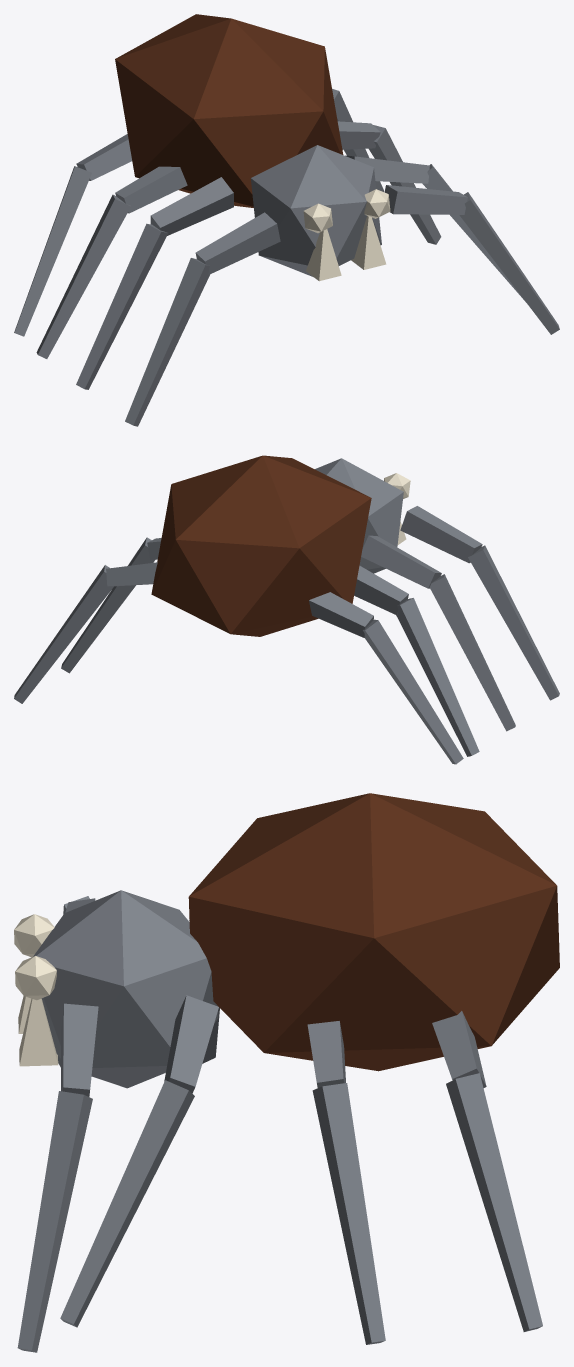
Rendered from npcpose_spider_walk_02.glb.
3 renders of one model, top to bottom at view 1: azimuth 30°, elevation 25°; view 2: azimuth 150°, elevation 25°; view 3: azimuth 270°, elevation 25°, orthographic. The views are drawn at different scales.
Visible parts, largest first — view 1: npcpose; view 2: npcpose; view 3: npcpose.
Boxes of the visible parts, left/top/right/bottom form: npcpose: left=14, top=14, right=559, bottom=426; npcpose: left=14, top=455, right=559, bottom=764; npcpose: left=14, top=793, right=559, bottom=1352.
Size of the model in its own units: 1.33 by 0.8419 by 0.9978.
